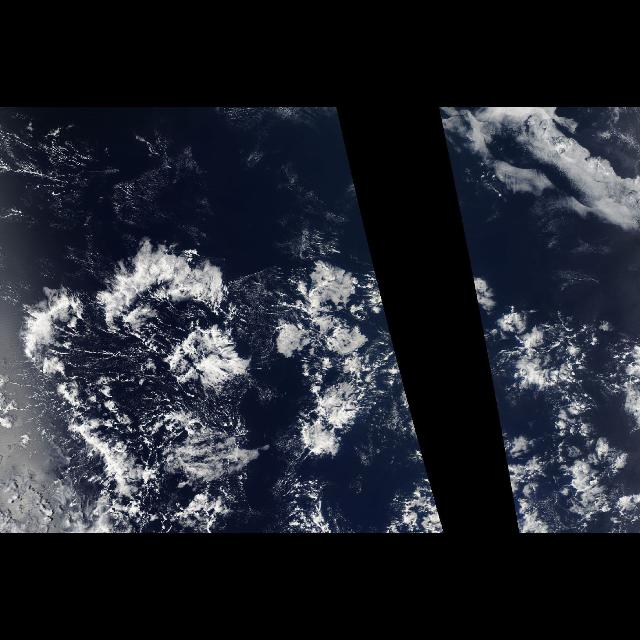Fish: (9, 269, 152, 505)
